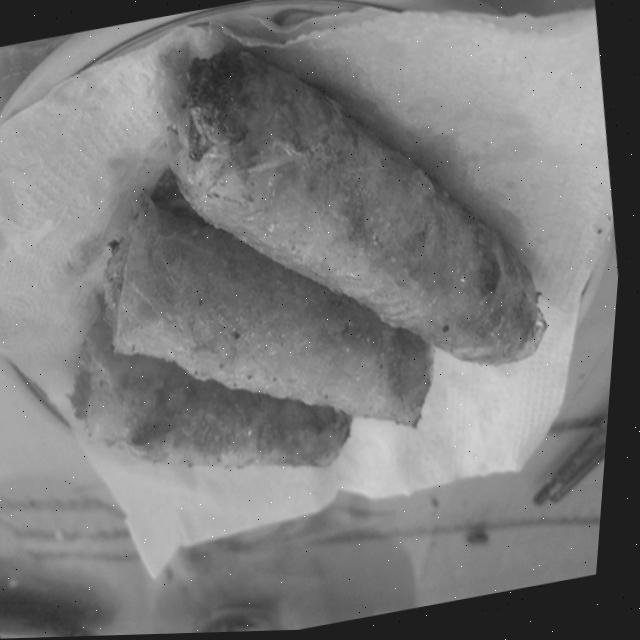炸货点心: (0, 0, 621, 549)
